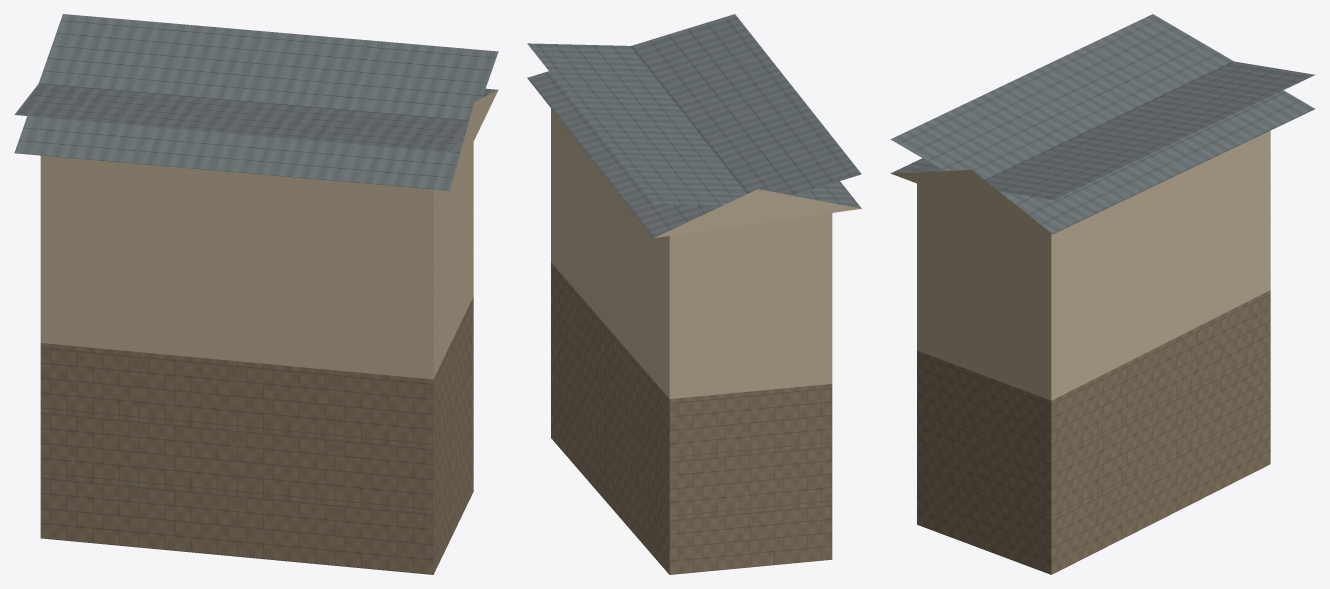
Rendered from bld_c12_41_477.gltf.
The picture shows the model from 3 angles, left to right: view 1: azimuth 30°, elevation 25°; view 2: azimuth 150°, elevation 25°; view 3: azimuth 270°, elevation 25°; orthographic projection. The views are drawn at different scales.
Visible parts, largest first — view 1: bld_c12_41_477; view 2: bld_c12_41_477; view 3: bld_c12_41_477.
Boxes of the visible parts, <box> form: bld_c12_41_477: <box>14,14,498,574</box>; bld_c12_41_477: <box>527,14,861,574</box>; bld_c12_41_477: <box>890,14,1315,574</box>.
Bounding box in the file's own units: 11.69 × 11.3 × 11.29.
Materials: 4 (4 with a texture image).
